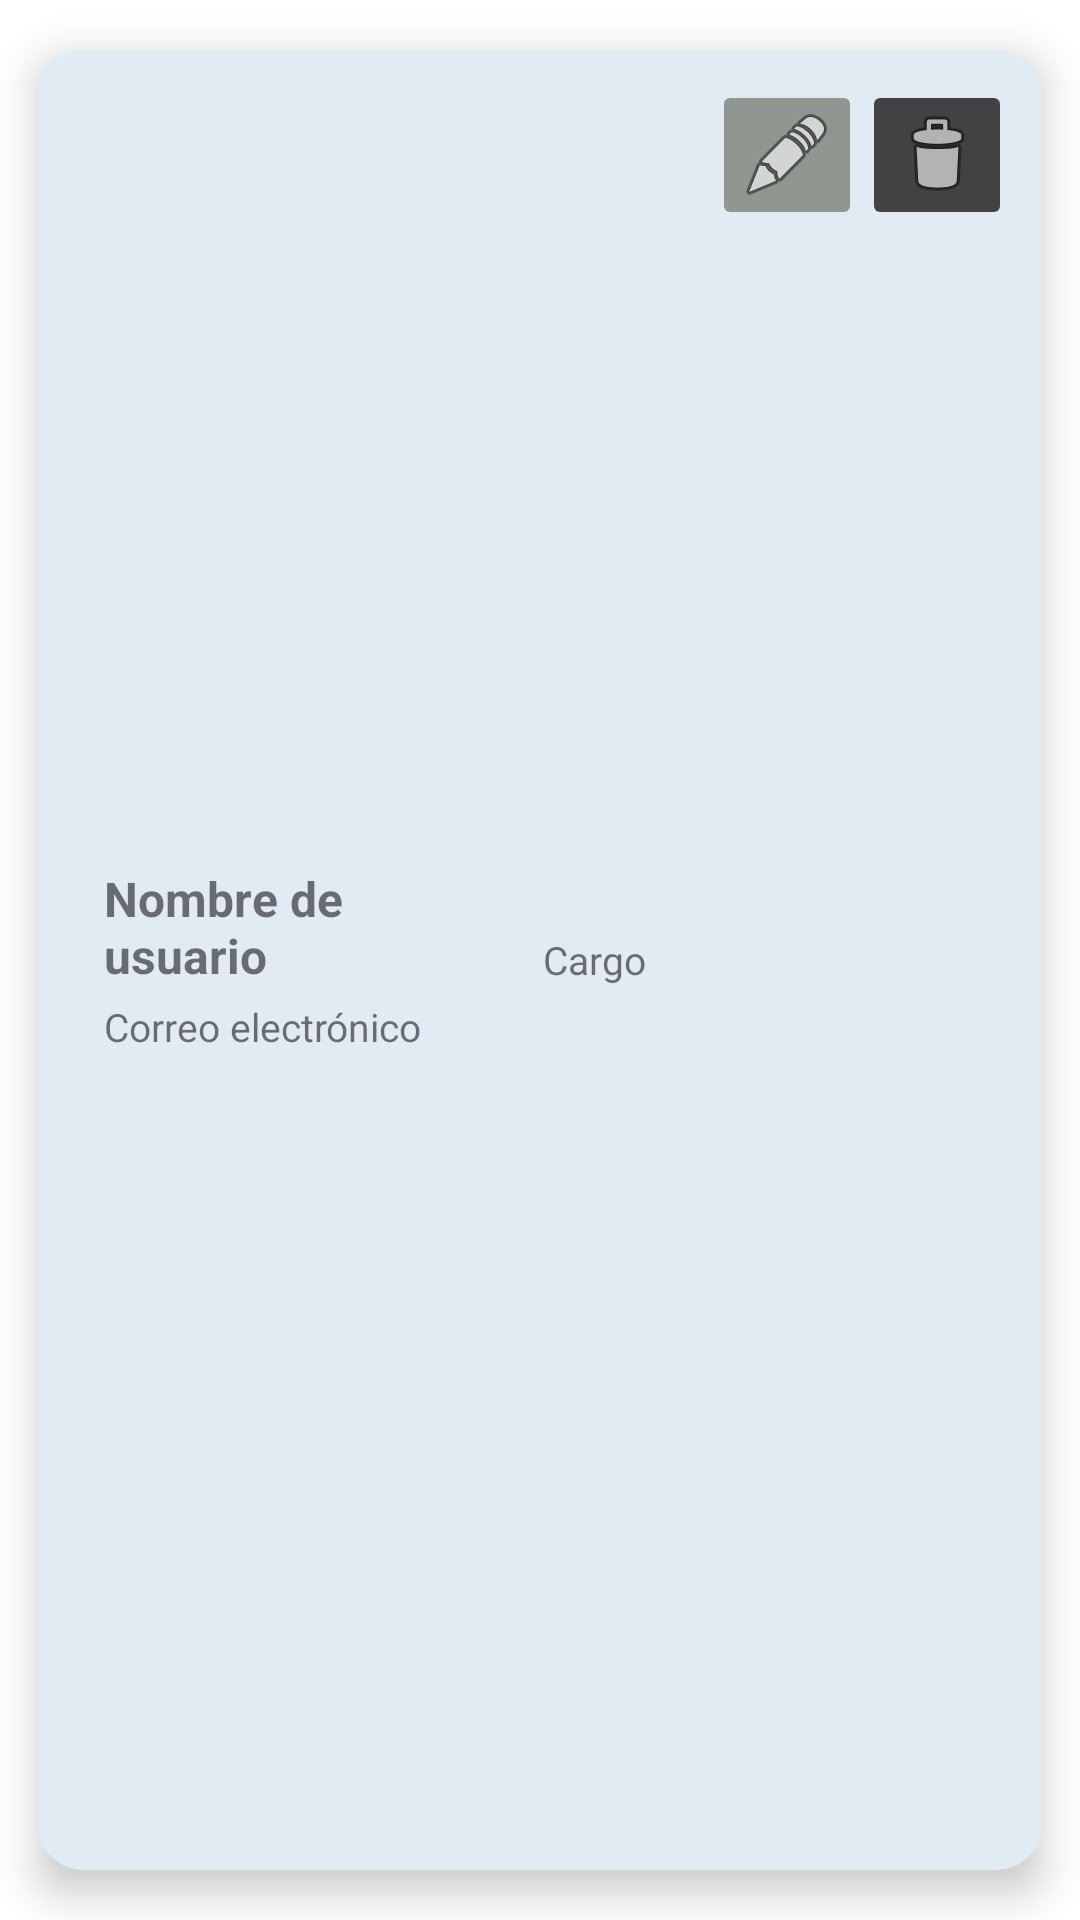

Icons on this 1080w x 1920h Android screen, each with its box as (x1,y1,x2,y2):
delete: (874,98,1000,212)
edit: (724,98,850,212)
